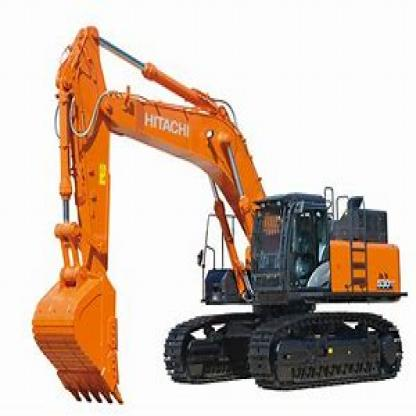excavator: (31, 4, 408, 403), (34, 15, 164, 407)
